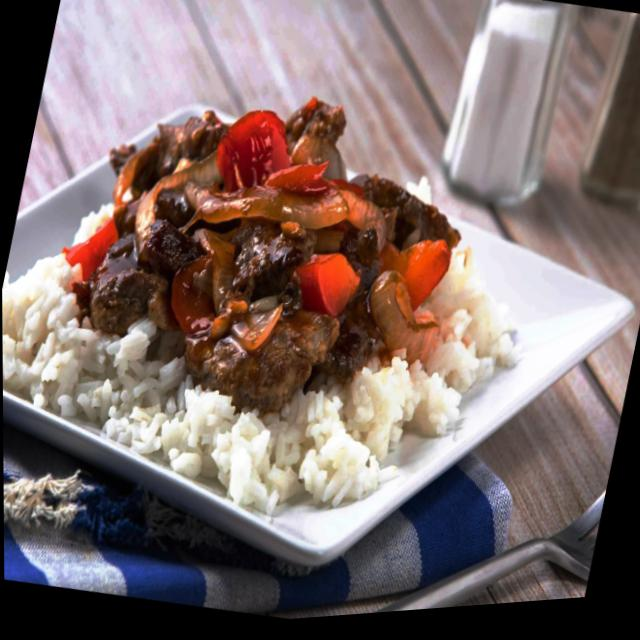Beijing Beef: (39, 42, 486, 446)
rice: (234, 408, 401, 537), (2, 250, 104, 411), (145, 373, 260, 496), (432, 255, 531, 391), (69, 325, 173, 453), (347, 364, 465, 461)
